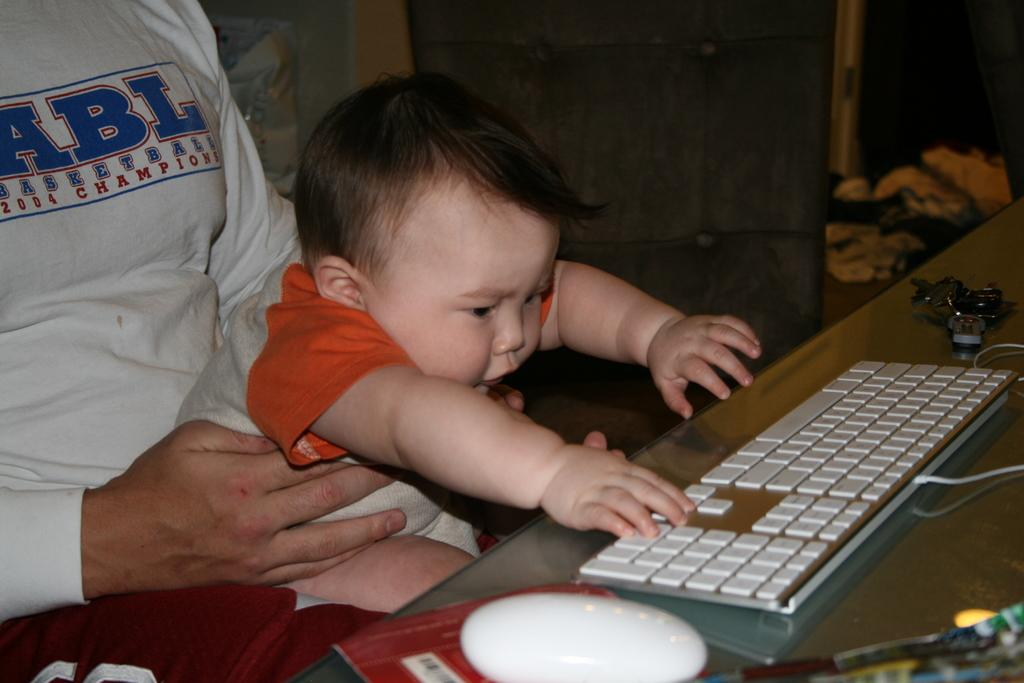Computer-keyboard: (579, 357, 1023, 613)
